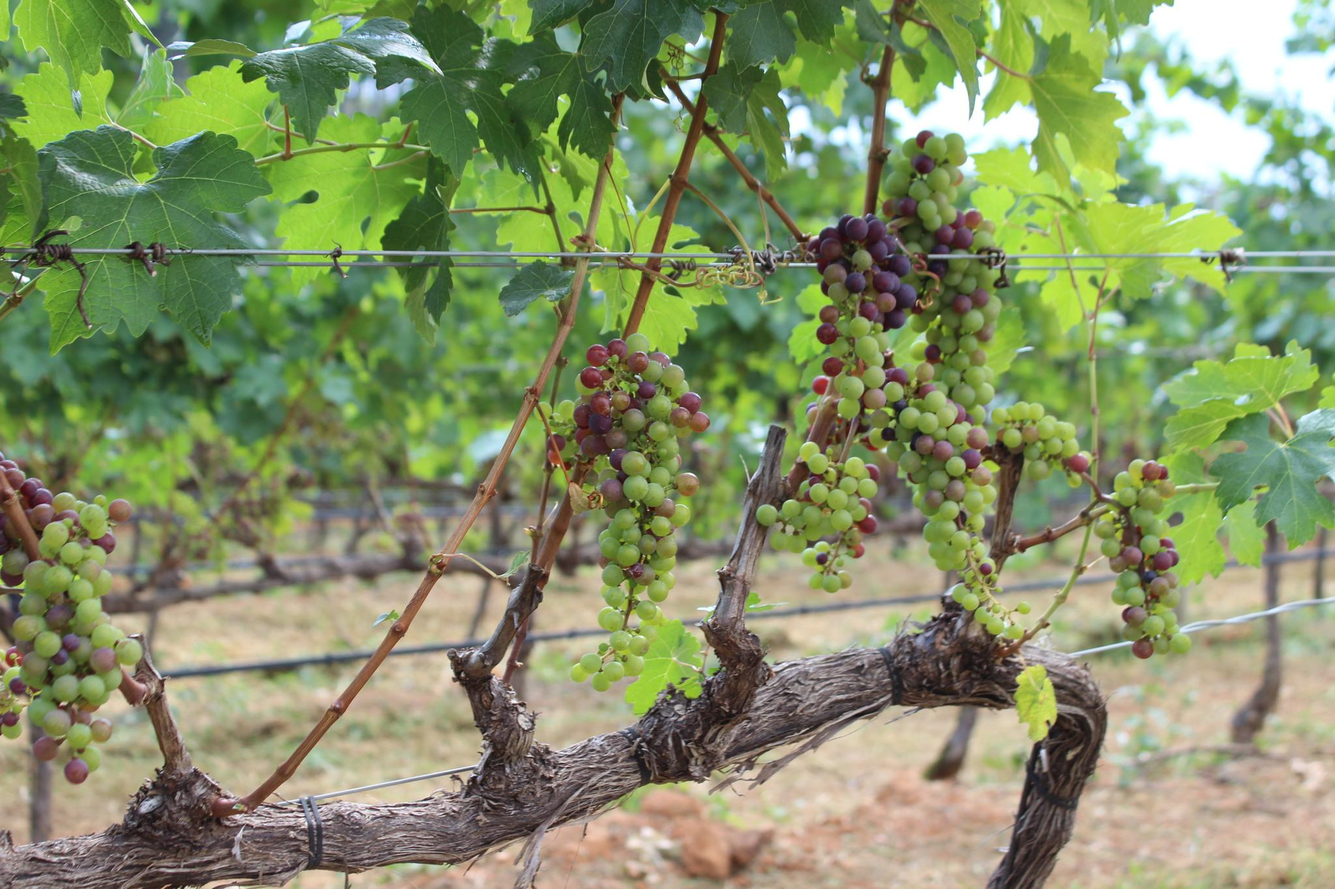Grape Unripe: (818, 209, 1003, 621), (572, 322, 711, 720), (1, 459, 135, 802)
